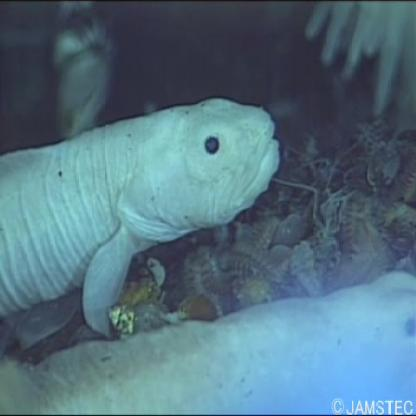Bio: (1, 94, 284, 342)
